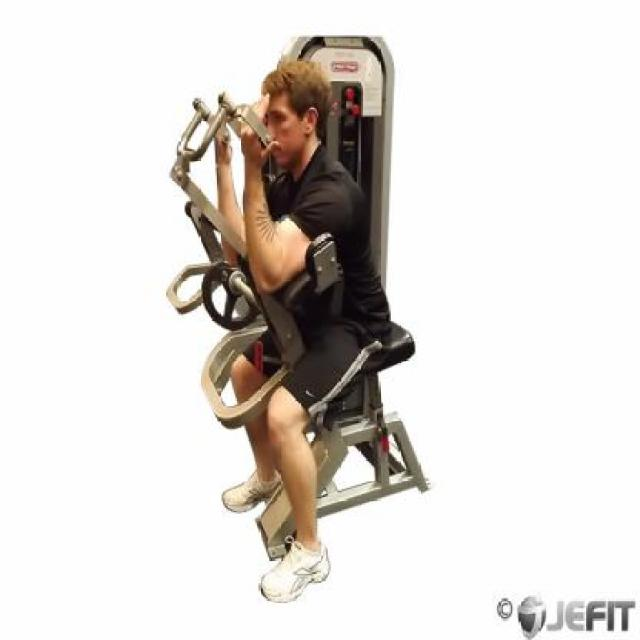arm curl machine: (201, 31, 434, 563)
